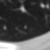node: (18, 5, 27, 13), (39, 2, 45, 9), (2, 25, 7, 31)
